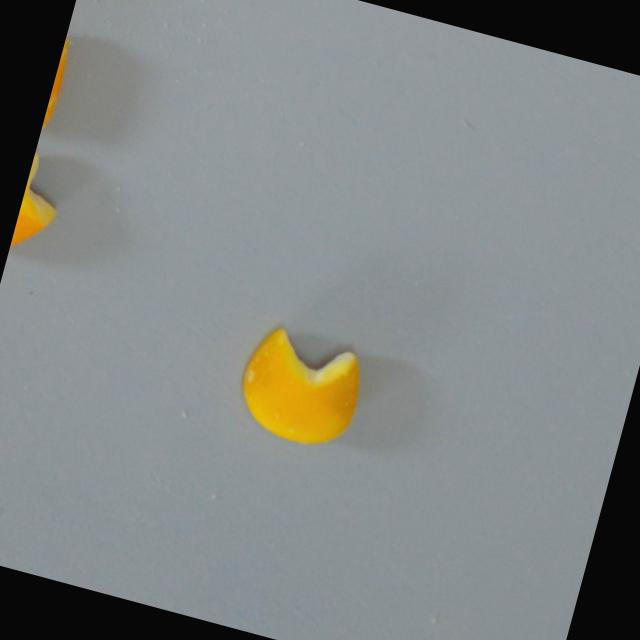no_canjicado: (232, 321, 372, 455)
pelicula: (4, 148, 71, 274), (36, 29, 78, 146)
